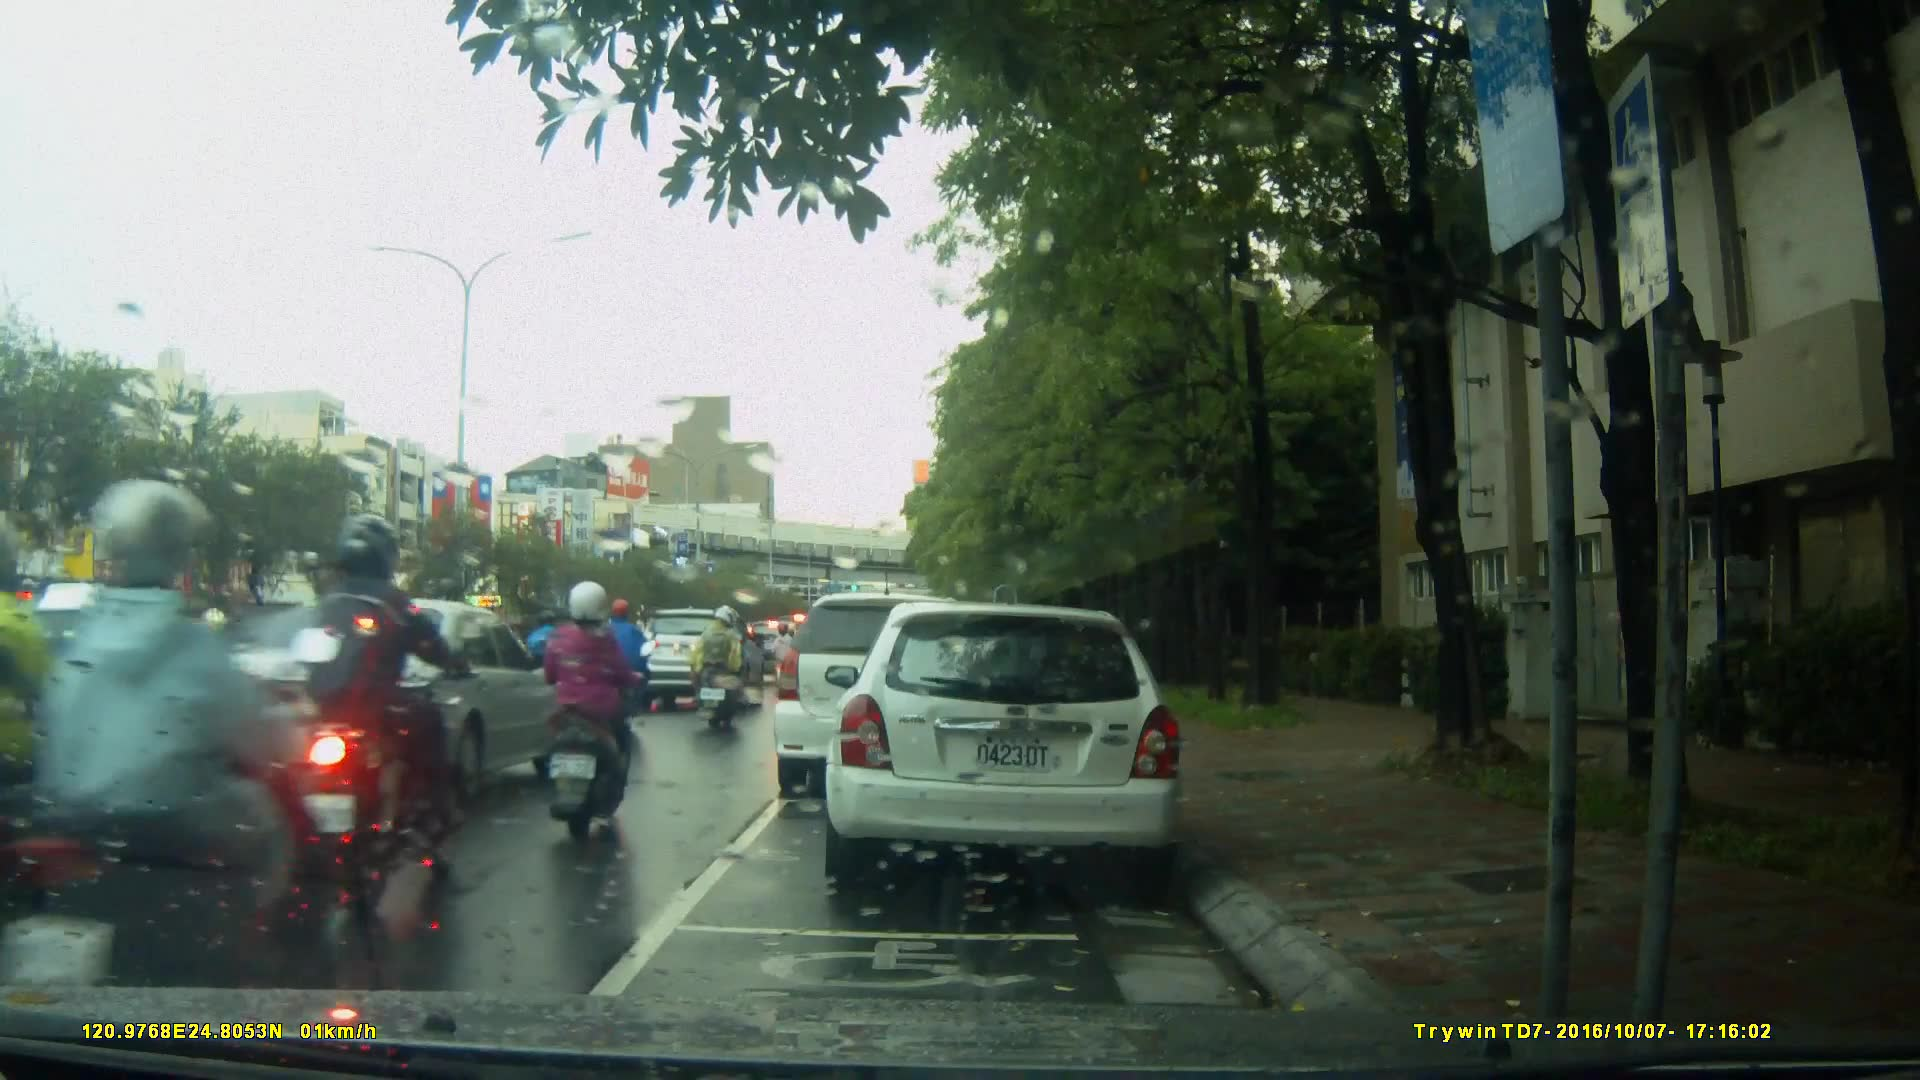rider: (12, 477, 306, 1036), (286, 512, 466, 914), (534, 586, 638, 841), (595, 598, 655, 721), (694, 605, 746, 735), (532, 605, 577, 712), (771, 623, 805, 697)
vehicle: (822, 604, 1188, 883), (210, 595, 581, 813), (774, 595, 995, 802), (631, 610, 767, 709)
